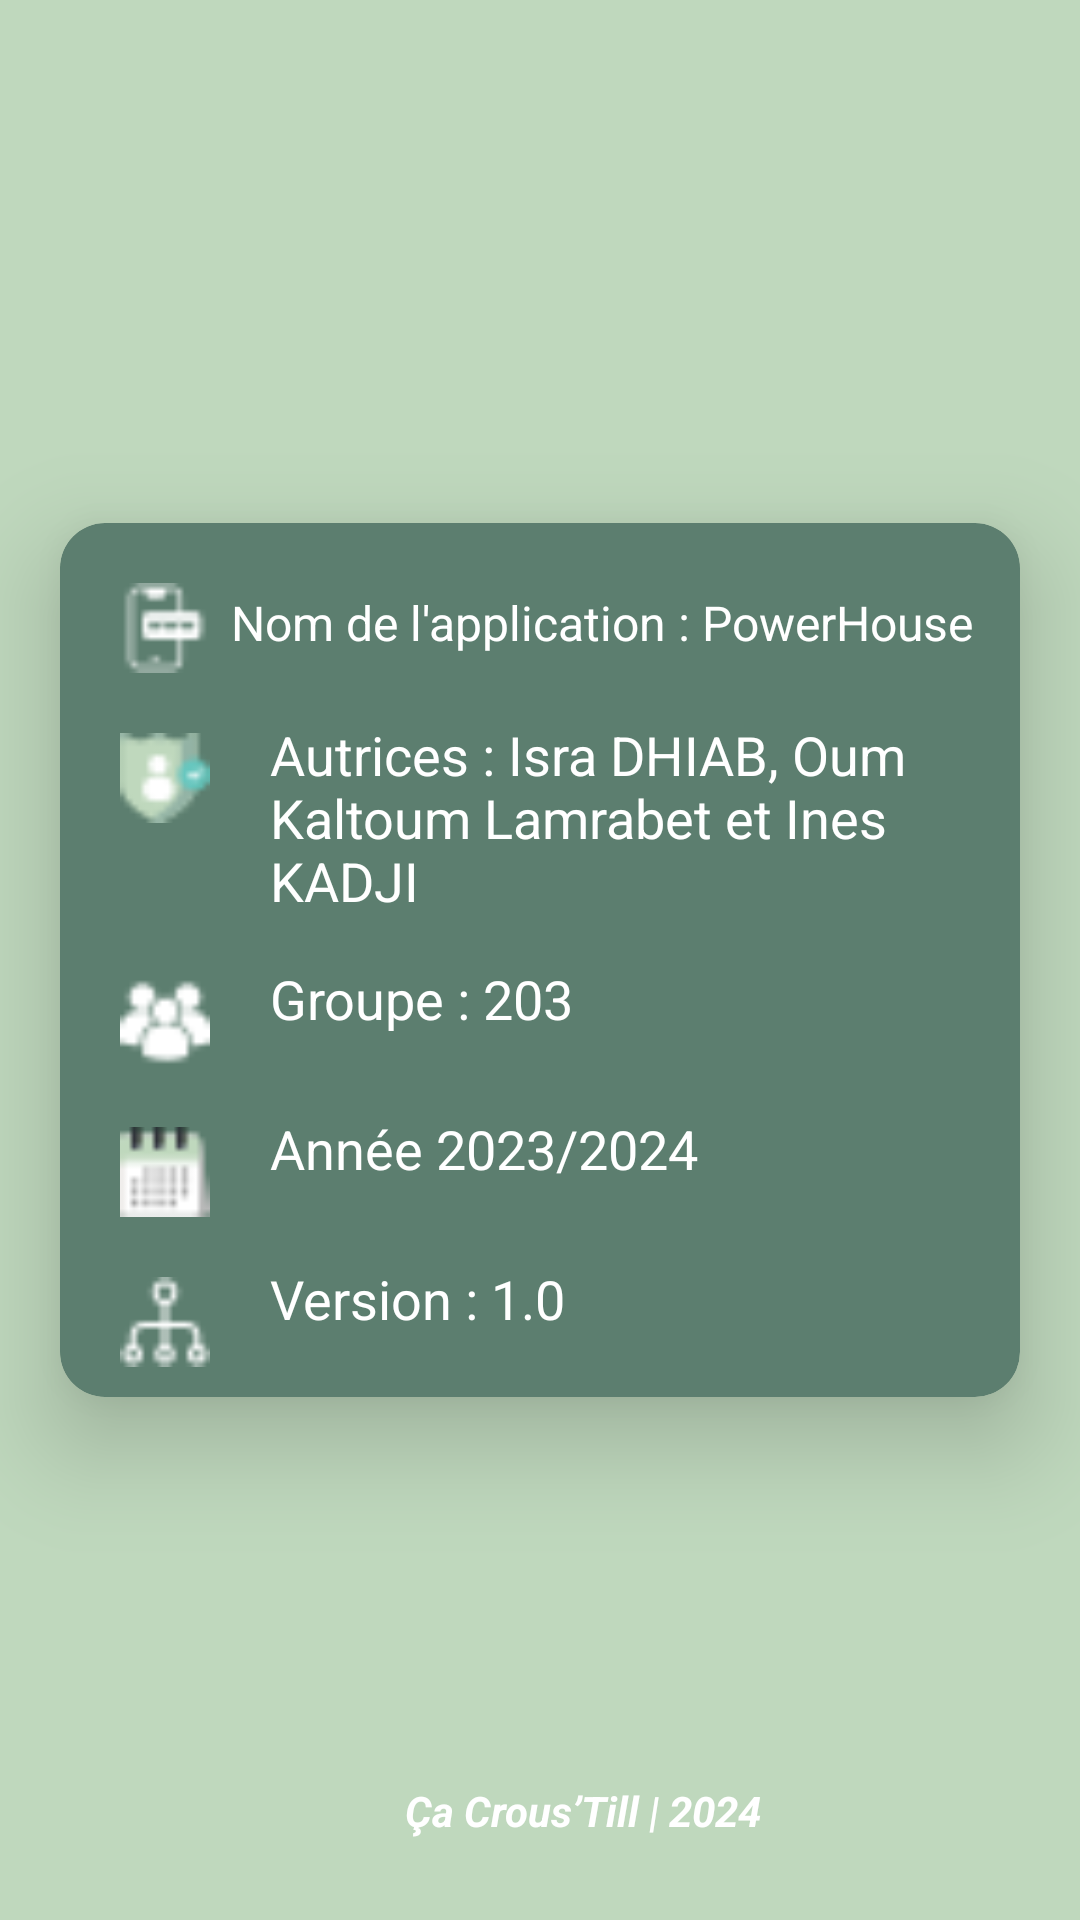

Where icons sit on this 1080×1920 app screen, as [x1=x1, y1=y1, x2=x2, y2=y2]:
calendar: [x1=120, y1=1127, x2=210, y2=1217]
